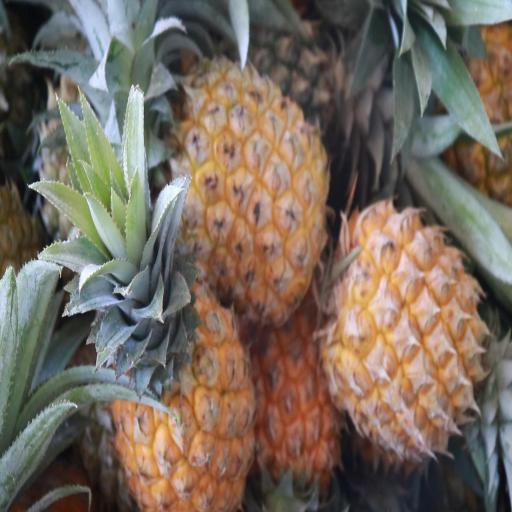Pineapple - v8 v1: (114, 204, 255, 512), (329, 205, 486, 460), (172, 59, 326, 316), (249, 312, 345, 512)
